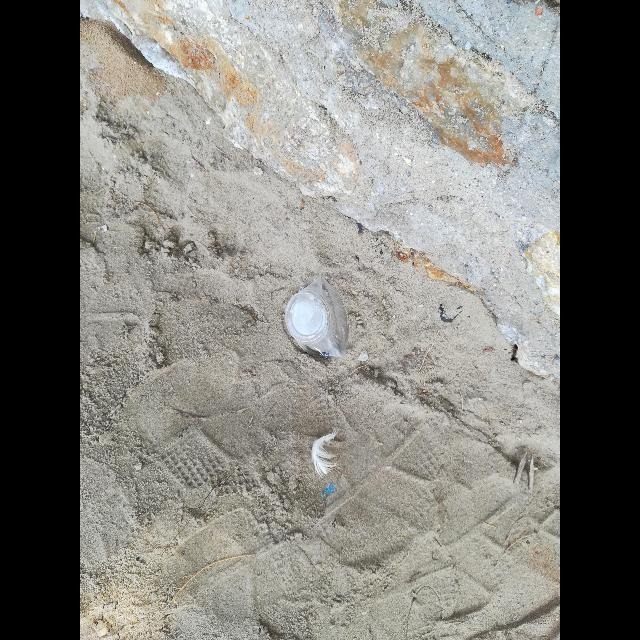Plastic: (286, 276, 348, 358)
